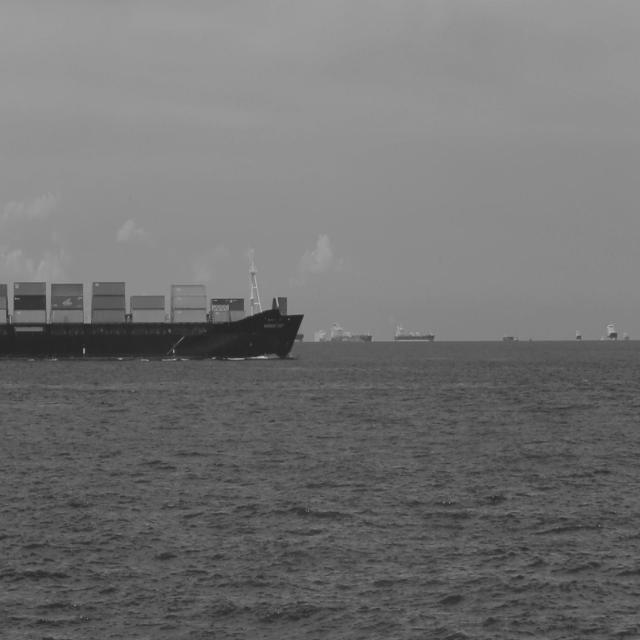ship: (0, 248, 305, 362), (394, 316, 438, 342), (331, 318, 378, 342), (292, 327, 308, 345)
